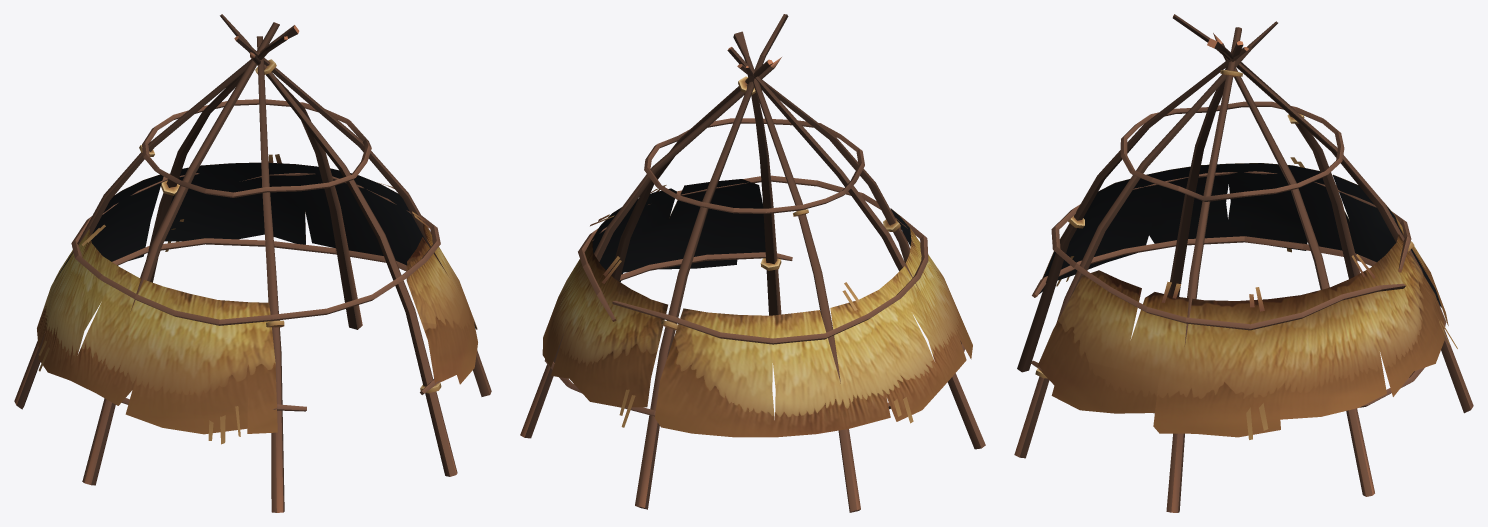
File: Hut_2C.fbx
3 views of the same model, side by side, from view 1: azimuth 30°, elevation 25°; view 2: azimuth 150°, elevation 25°; view 3: azimuth 270°, elevation 25° (orthographic). The views are drawn at different scales.
Parts seen in each view (by area): view 1: Hut_2C; view 2: Hut_2C; view 3: Hut_2C.
Boxes of the visible parts, box(x1,y1,x2,y2) form: Hut_2C: box(14, 14, 491, 512); Hut_2C: box(520, 14, 985, 512); Hut_2C: box(1014, 14, 1473, 512).
Size of the model in its own units: 558 by 532 by 550.
